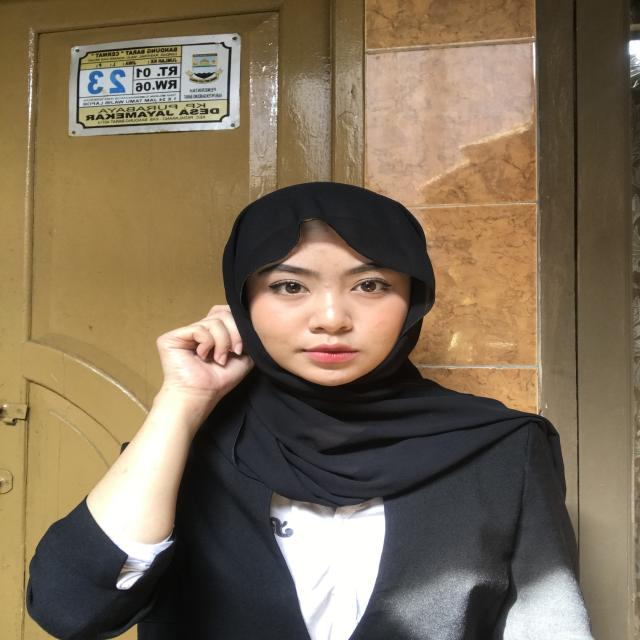ibu: (130, 276, 292, 487), (130, 276, 132, 282)
